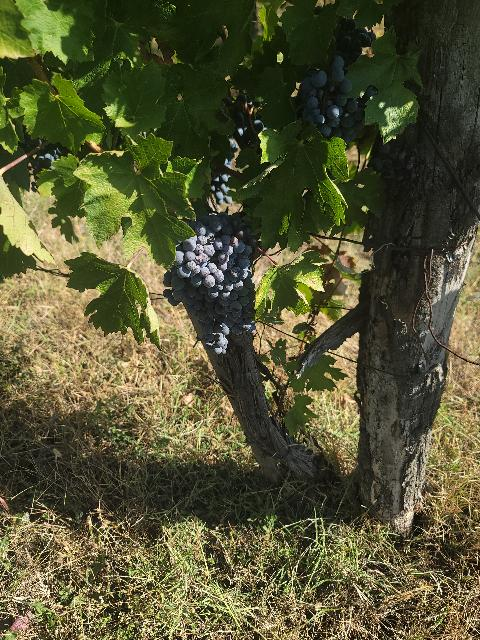grapes: (170, 212, 256, 354), (295, 56, 378, 144), (164, 269, 221, 354)
